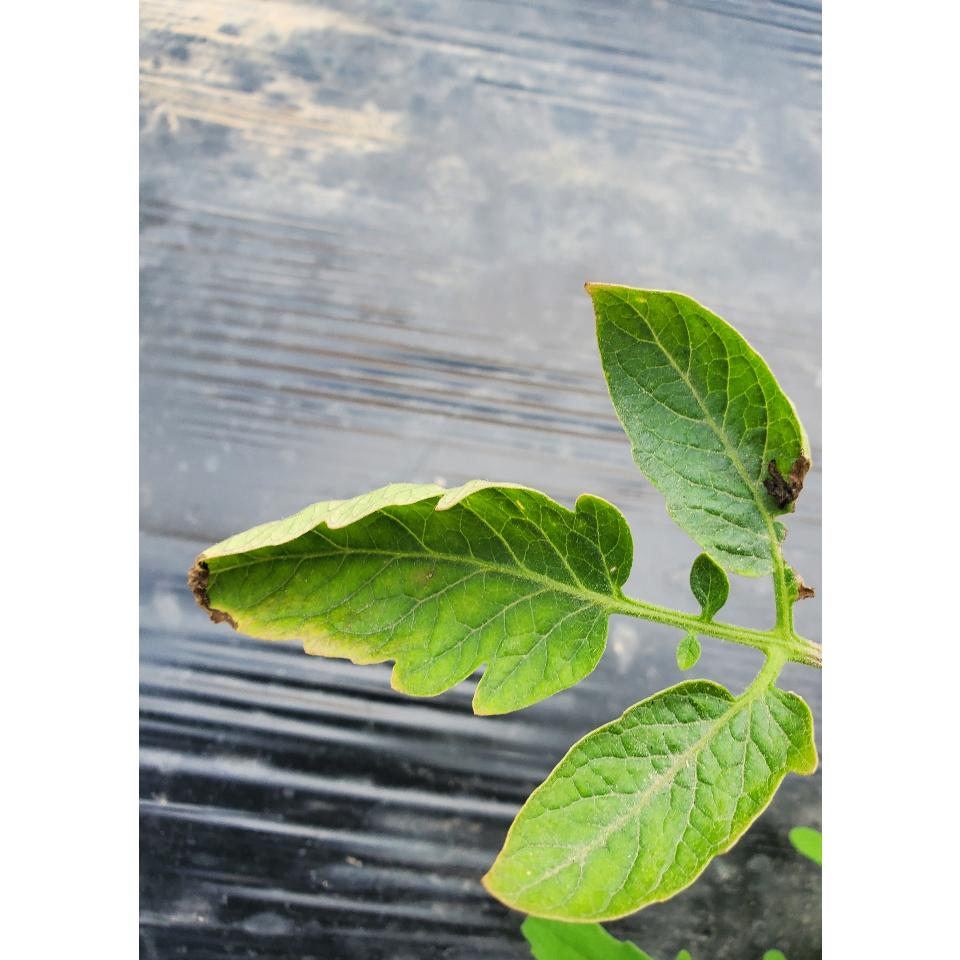tomato_yellow_leaf_curl_virus: (180, 484, 632, 723), (472, 664, 818, 922), (575, 274, 811, 596)
